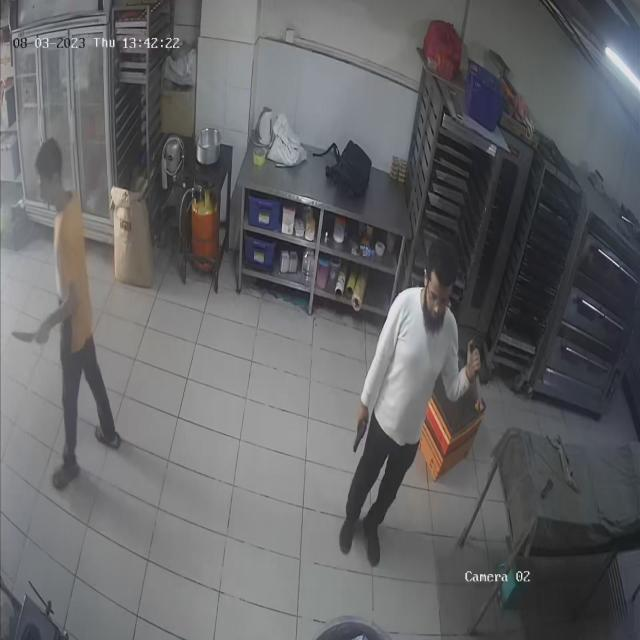Gun: (342, 410, 370, 457)
Knife: (4, 323, 62, 355)
